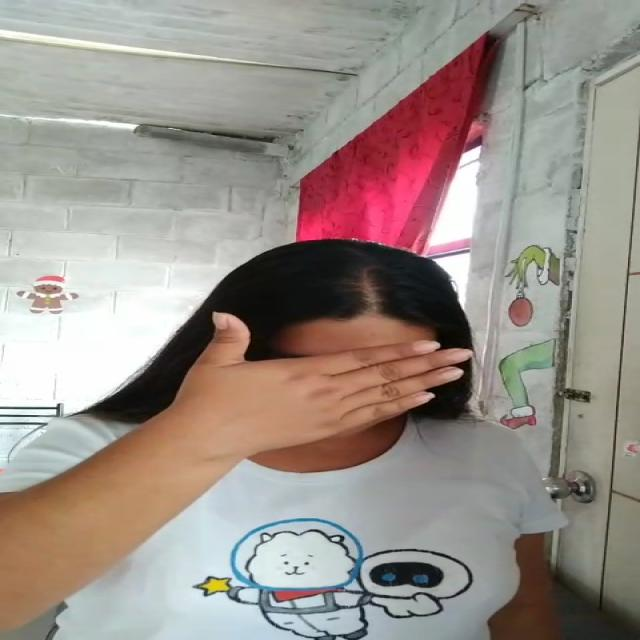7_mano_rostro: (214, 325, 456, 489)
